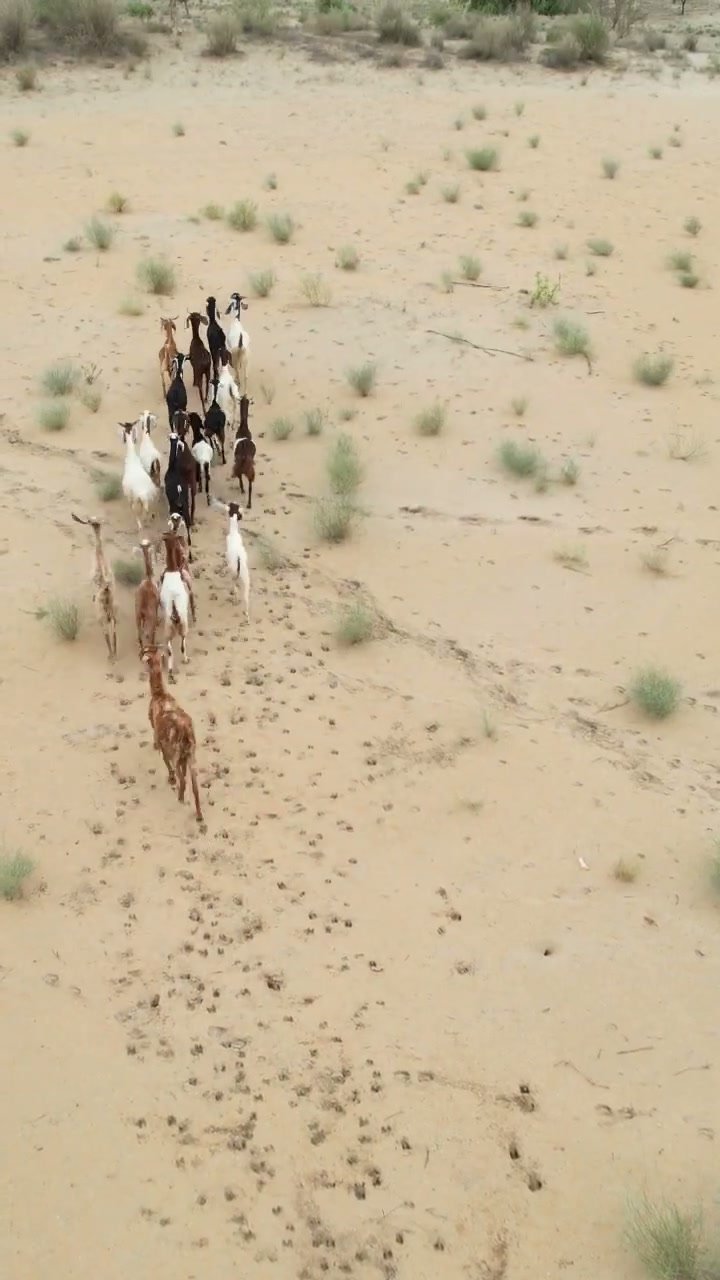animal_footprint: (58, 516, 445, 1279)
